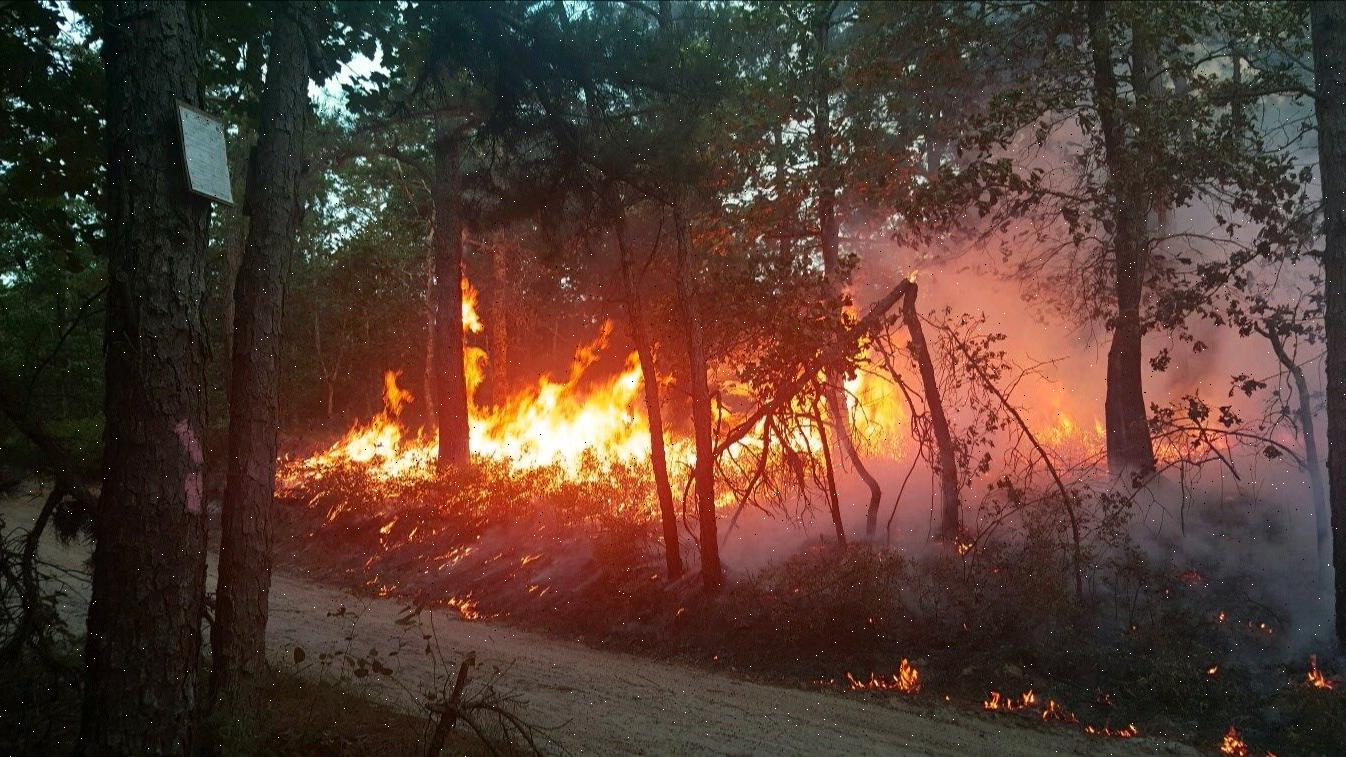fire: (288, 268, 934, 530)
